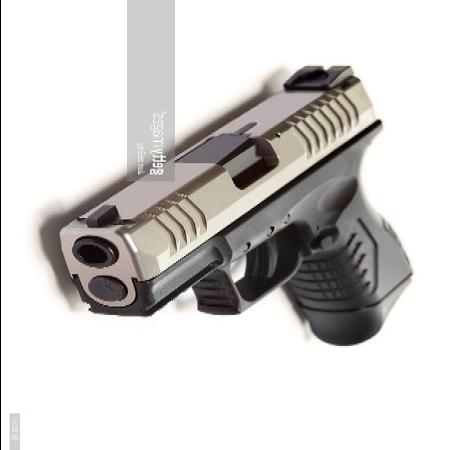Pistol: (54, 66, 426, 360)
